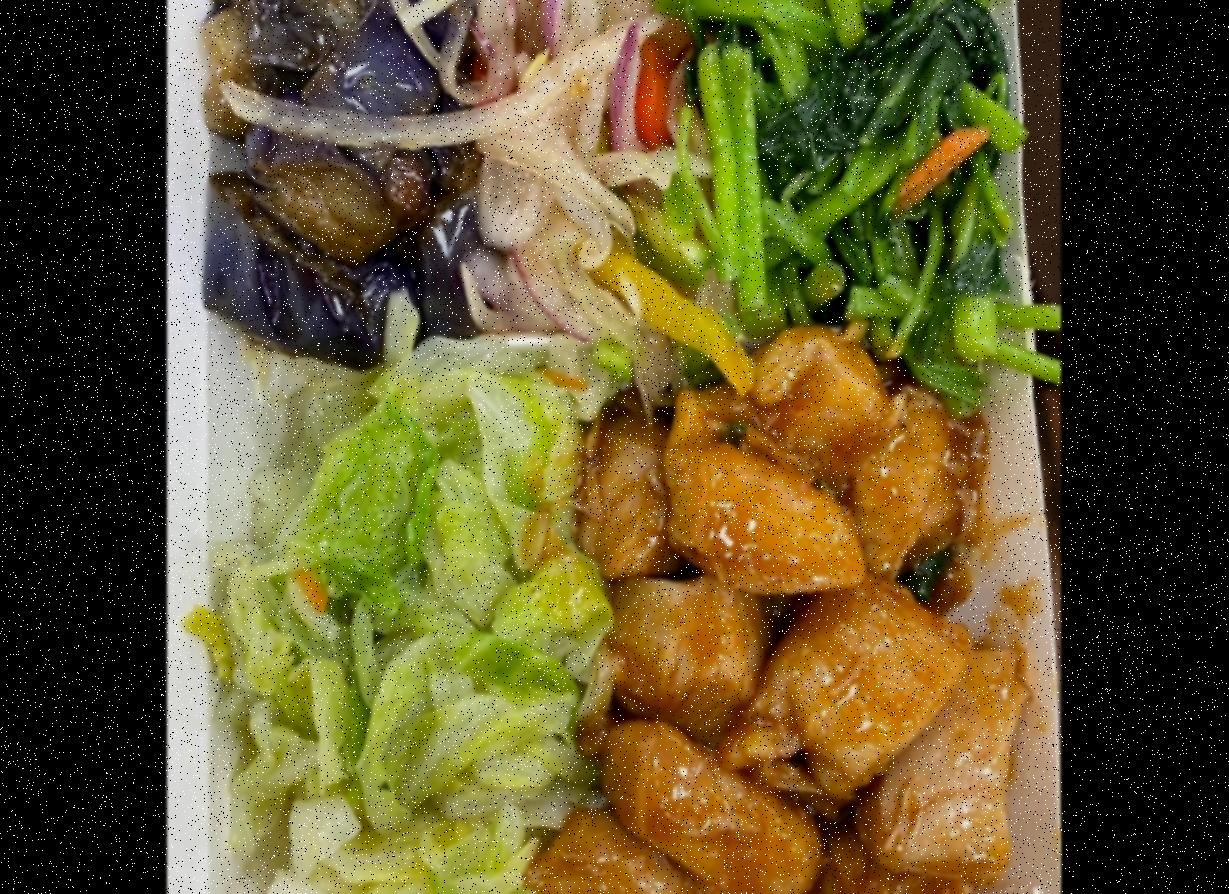big grilled chicken leg: (198, 0, 1057, 894)
braised fish fillet: (216, 353, 588, 894), (687, 0, 1018, 335), (192, 0, 478, 339), (459, 0, 687, 329)
braised pork: (550, 337, 1023, 894)
